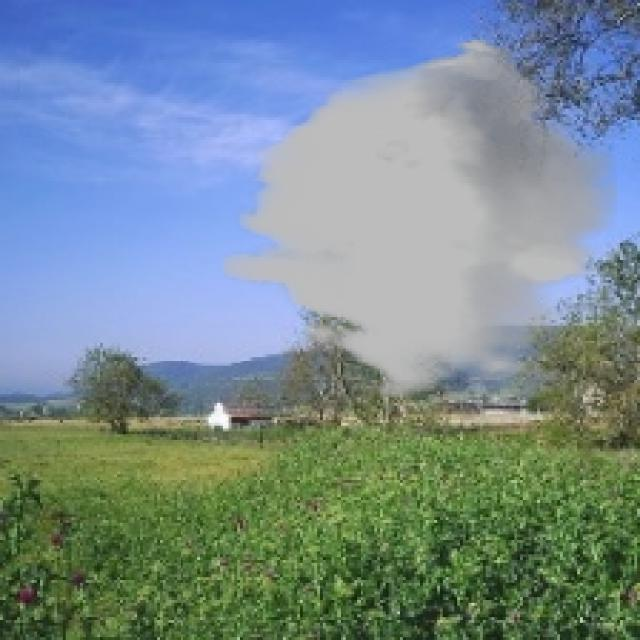smoke: (223, 37, 617, 400)
